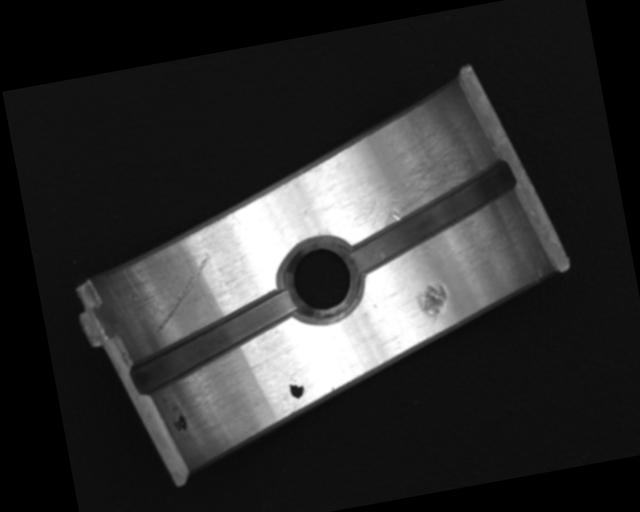blot: (168, 402, 190, 434), (286, 374, 305, 400)
bruise: (413, 281, 452, 327)
gap: (338, 158, 526, 275), (119, 287, 306, 396)
hole: (277, 233, 366, 329)
nick: (144, 250, 222, 333)
scratch: (340, 117, 496, 238)
